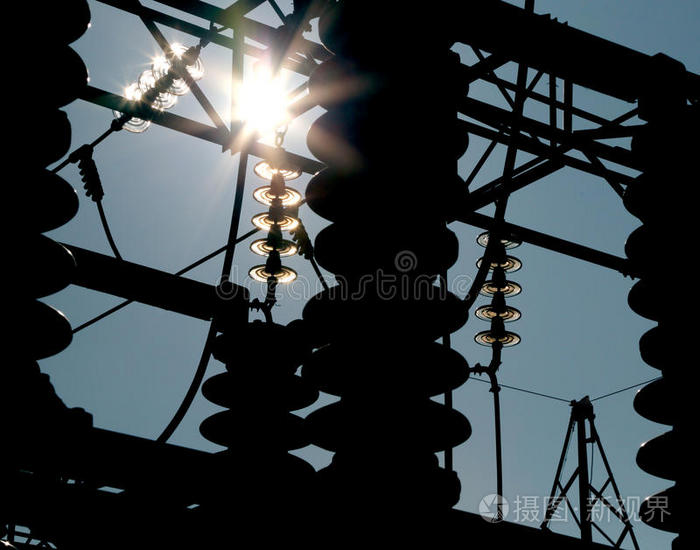insulator: (111, 43, 202, 131), (248, 160, 299, 286), (475, 229, 521, 346)
